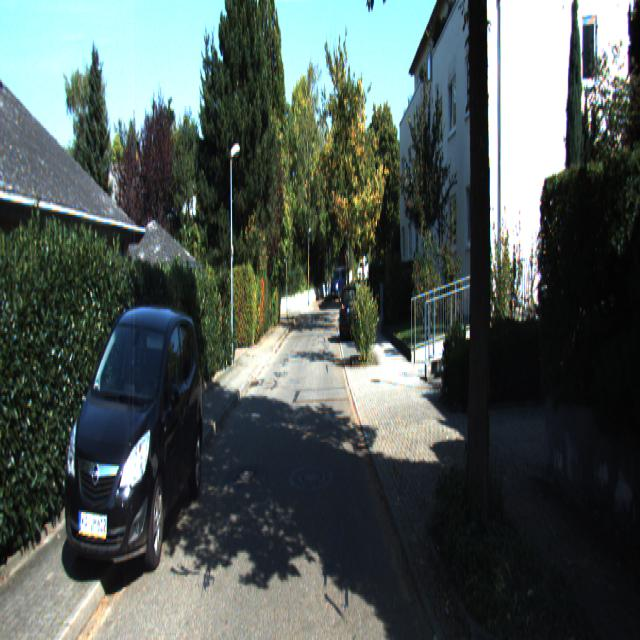Car: (58, 313, 205, 598), (339, 285, 358, 345)
